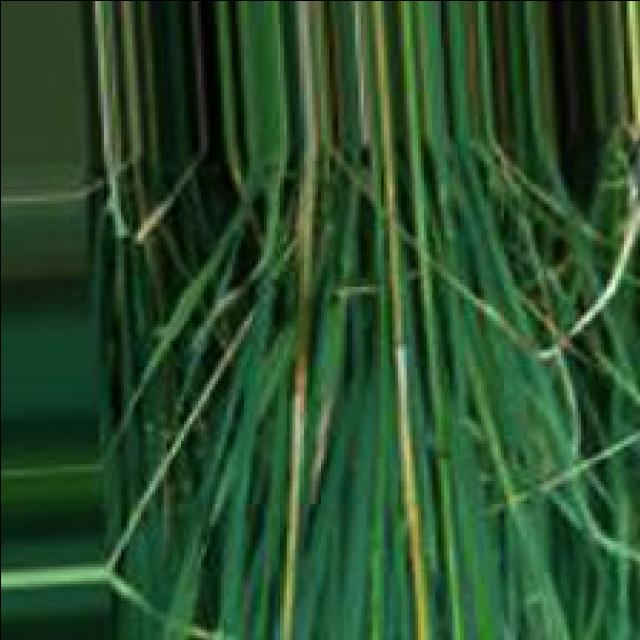Unhealthy: (392, 339, 427, 640)
